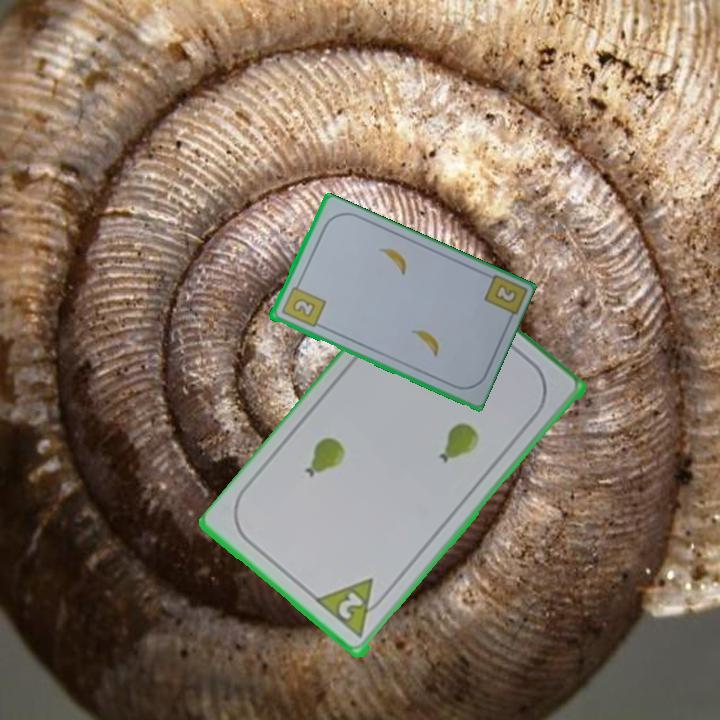2b: (278, 278, 328, 331), (490, 280, 520, 306)
2p: (313, 575, 392, 643)
